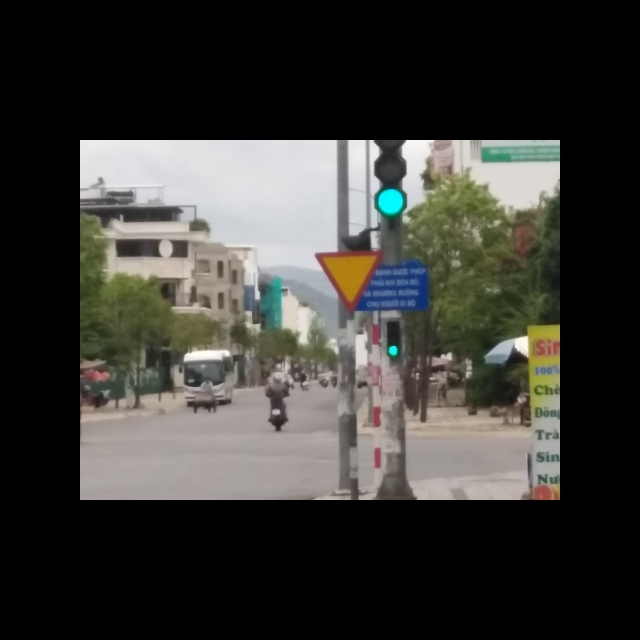Giao nhau với đường ưu tiên: (314, 251, 384, 314)
Đèn xanh: (376, 187, 405, 214)
